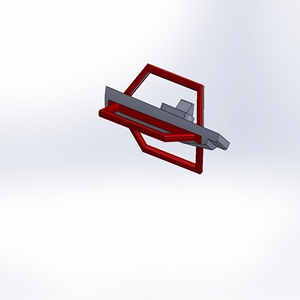submarine: (83, 58, 244, 175)
